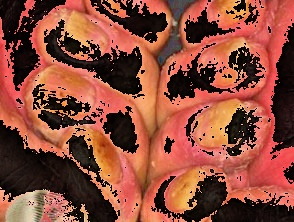Nail_psoriasis: (167, 98, 275, 179), (30, 0, 134, 83), (54, 113, 146, 202), (18, 55, 113, 140), (172, 34, 274, 106), (139, 160, 236, 222), (183, 0, 269, 44), (87, 0, 156, 26), (206, 0, 248, 30)
